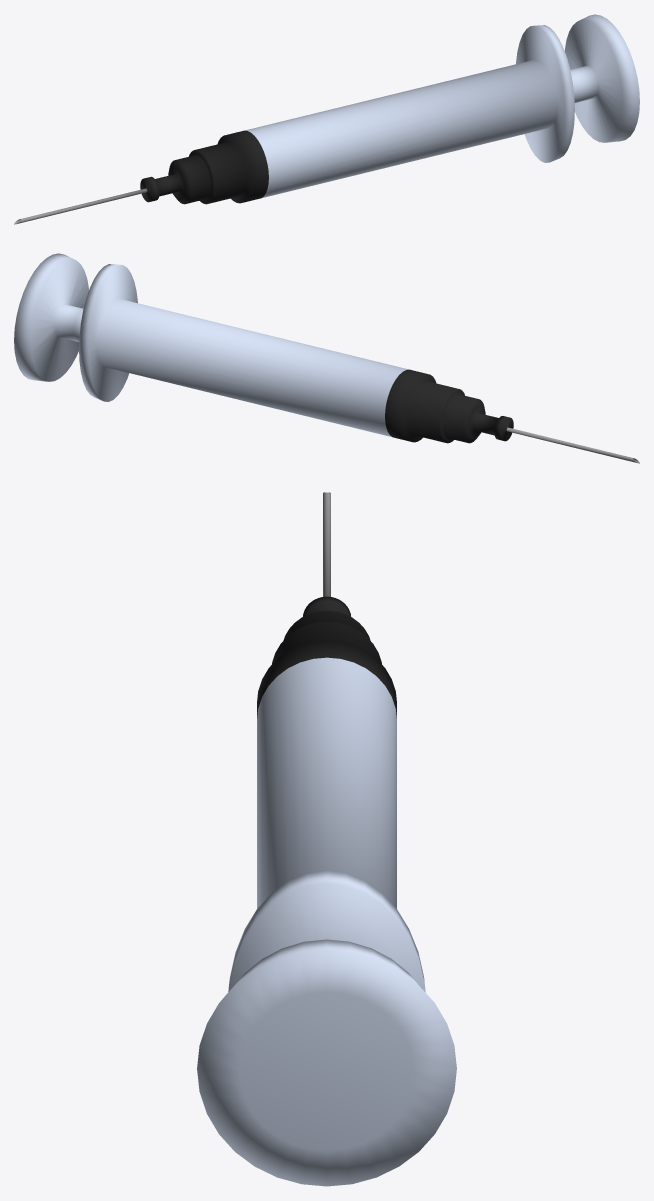
File: Syringe.fbx
The picture shows the model from 3 angles, top to bottom: view 1: azimuth 30°, elevation 25°; view 2: azimuth 150°, elevation 25°; view 3: azimuth 270°, elevation 25°; orthographic projection. The views are drawn at different scales.
Visible parts, largest first — view 1: Syringe, SyringeTopHalf; view 2: Syringe, SyringeTopHalf; view 3: SyringeTopHalf, Syringe.
Boxes of the visible parts, bbox=[...] form: Syringe: bbox=[14, 25, 574, 224]; SyringeTopHalf: bbox=[564, 14, 639, 142]; Syringe: bbox=[79, 264, 639, 463]; SyringeTopHalf: bbox=[14, 253, 88, 381]; SyringeTopHalf: bbox=[197, 939, 456, 1186]; Syringe: bbox=[228, 492, 425, 992].
Size of the model in its own units: 118 by 25.22 by 22.37.
